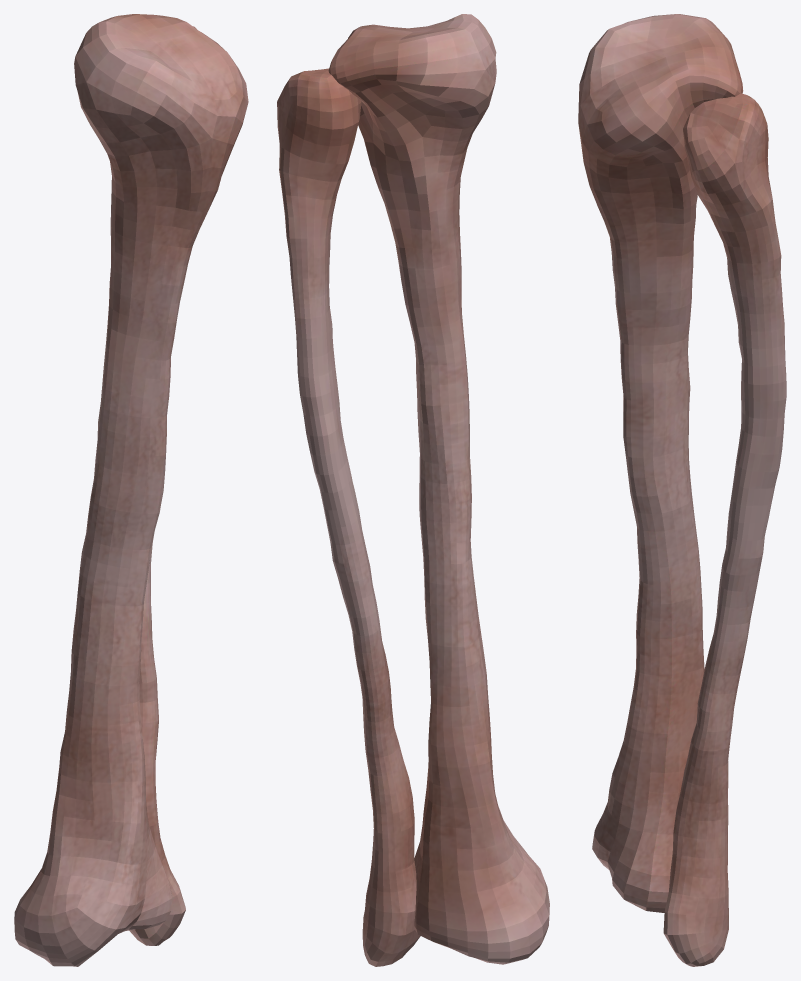
File: left_fibula_tibia.obj
3 renders of one model, left to right at view 1: azimuth 30°, elevation 25°; view 2: azimuth 150°, elevation 25°; view 3: azimuth 270°, elevation 25°, orthographic.
Parts seen in each view (by area): view 1: left_fibula_tibia; view 2: left_fibula_tibia; view 3: left_fibula_tibia.
Boxes of the visible parts, x1=… form: left_fibula_tibia: x1=14, y1=14, x2=248, y2=966; left_fibula_tibia: x1=277, y1=14, x2=549, y2=966; left_fibula_tibia: x1=578, y1=14, x2=786, y2=966.
Size of the model in its own units: 0.7999 by 3.07 by 0.6267.
